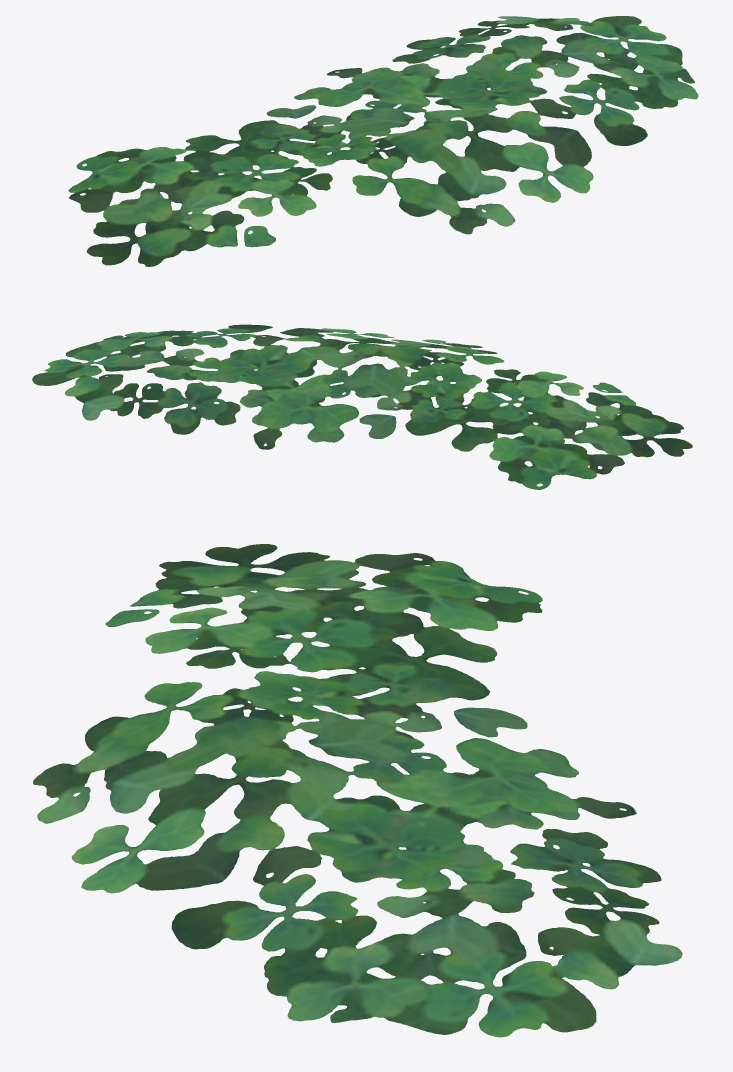
The model's file is SM_Ground_Clovers_C.fbx.
3 views of the same model, one above another, from view 1: azimuth 30°, elevation 25°; view 2: azimuth 150°, elevation 25°; view 3: azimuth 270°, elevation 25° (orthographic). The views are drawn at different scales.
Parts seen in each view (by area): view 1: SM_Ground_Clovers_C_LOD0; view 2: SM_Ground_Clovers_C_LOD0; view 3: SM_Ground_Clovers_C_LOD0.
Part boxes in pixels (x1=…): SM_Ground_Clovers_C_LOD0: x1=68, y1=16, x2=698, y2=266; SM_Ground_Clovers_C_LOD0: x1=32, y1=324, x2=692, y2=489; SM_Ground_Clovers_C_LOD0: x1=33, y1=544, x2=682, y2=1037.
Size of the model in its own units: 87.89 by 49.24 by 6.29.
1 material, 1 textured.
